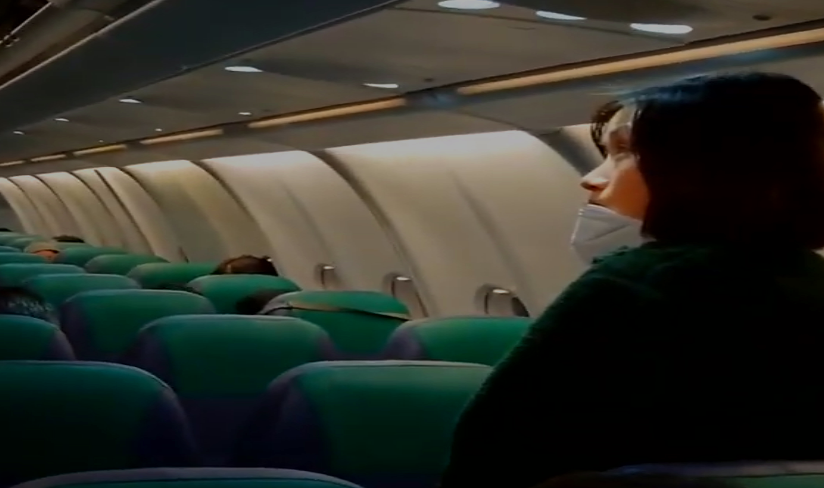mask_weared_incorrect: (565, 68, 744, 265)
